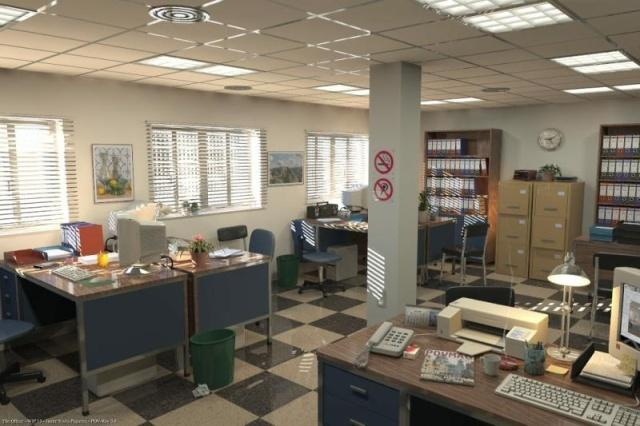Filing Cabinet: (528, 180, 570, 282), (493, 179, 533, 279)
Kursi: (289, 219, 346, 300), (437, 221, 490, 287)
Printer: (436, 295, 549, 356)
